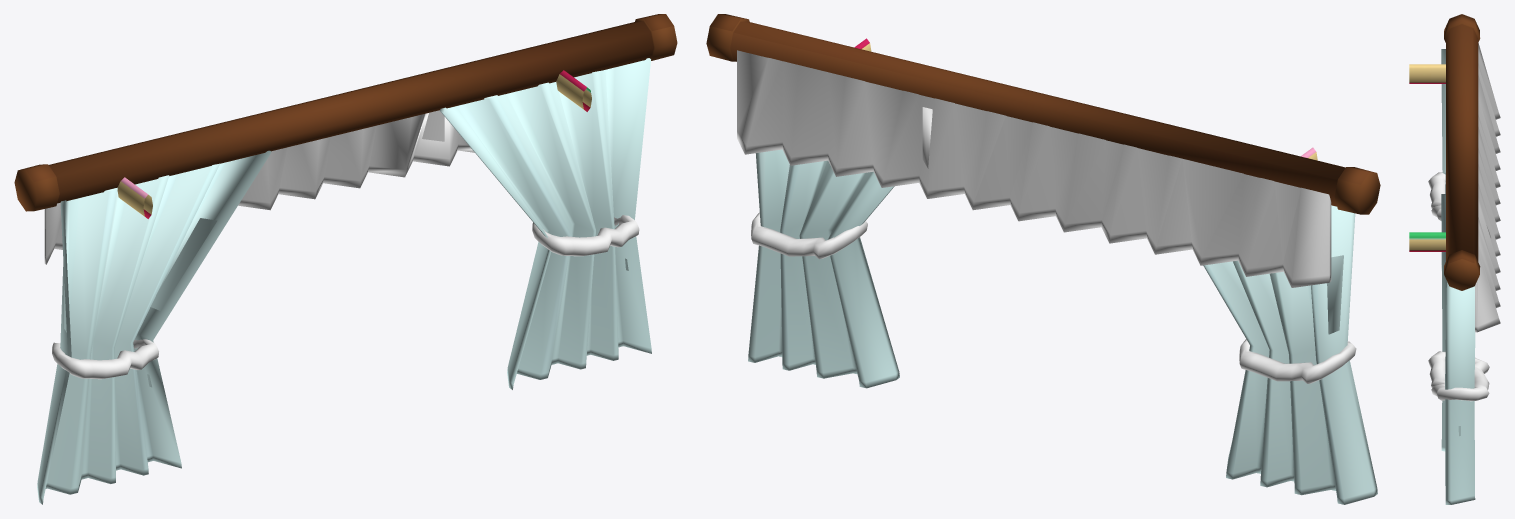
Rendered from Curtains_Classic_Draped.fbx.
3 views of the same model, side by side, from view 1: azimuth 30°, elevation 25°; view 2: azimuth 150°, elevation 25°; view 3: azimuth 270°, elevation 25° (orthographic). The views are drawn at different scales.
Visible parts, largest first — view 1: Curtains_Classic_Draped.002; view 2: Curtains_Classic_Draped.002; view 3: Curtains_Classic_Draped.002.
Boxes of the visible parts, x1,y1,x2,y2 form: Curtains_Classic_Draped.002: (14, 14, 677, 504); Curtains_Classic_Draped.002: (706, 14, 1380, 504); Curtains_Classic_Draped.002: (1409, 14, 1500, 504).
Bounding box in the file's own units: 1465 × 713 × 231.
